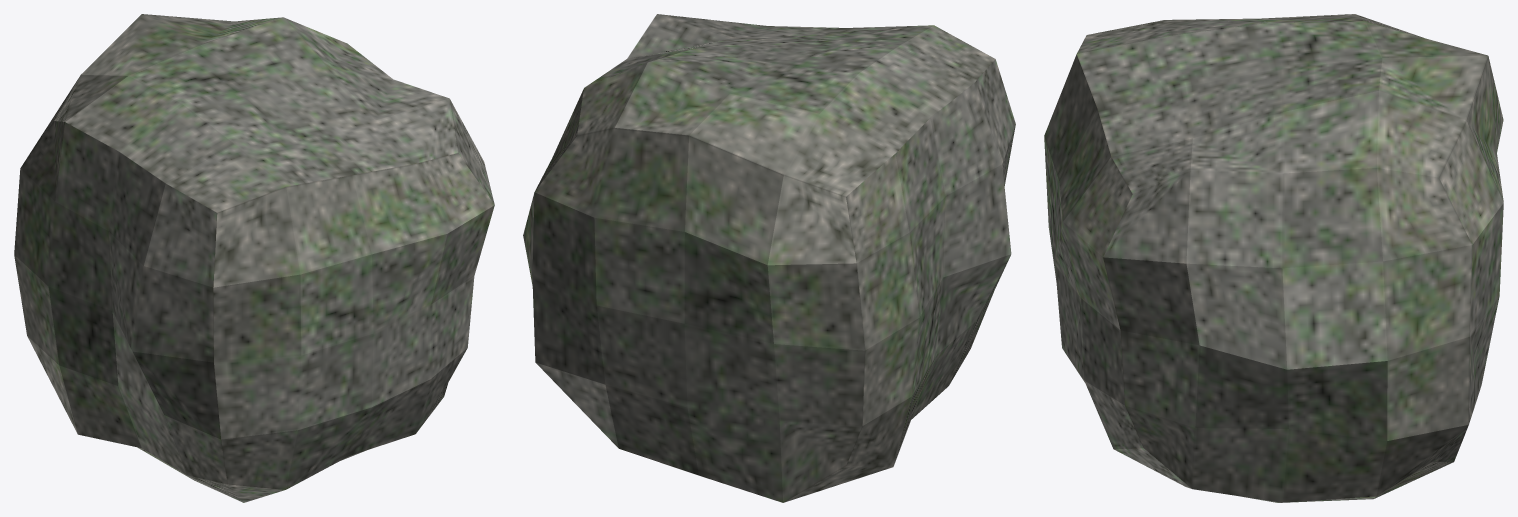
The model's file is SM_EC_Rock_64.fbx.
3 views of the same model, side by side, from view 1: azimuth 30°, elevation 25°; view 2: azimuth 150°, elevation 25°; view 3: azimuth 270°, elevation 25° (orthographic). The views are drawn at different scales.
Visible parts, largest first — view 1: SM_EC_Rock_64; view 2: SM_EC_Rock_64; view 3: SM_EC_Rock_64.
Part boxes in pixels (x1,y1,x2,y2): SM_EC_Rock_64: [14, 14, 494, 502]; SM_EC_Rock_64: [523, 14, 1015, 502]; SM_EC_Rock_64: [1044, 14, 1503, 502].
Size of the model in its own units: 1.17 by 1.1 by 1.13.
